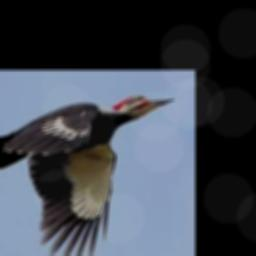Woodpecker: (0, 95, 175, 256)
